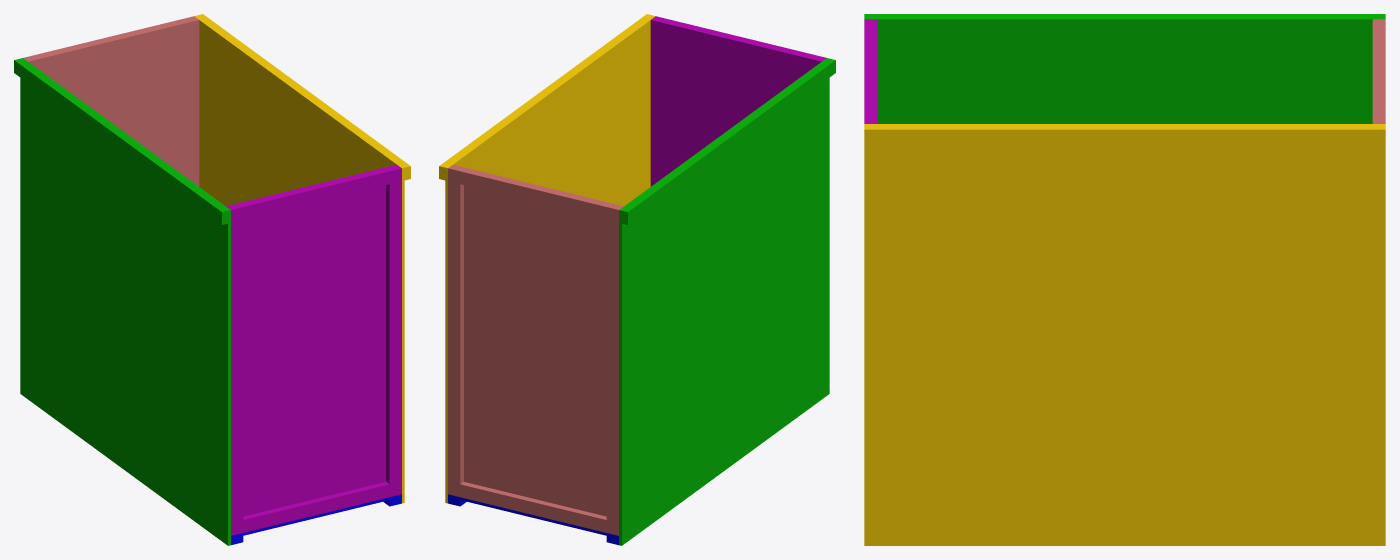
The model's file is result.glb.
The picture shows the model from 3 angles, left to right: view 1: azimuth 30°, elevation 25°; view 2: azimuth 150°, elevation 25°; view 3: azimuth 270°, elevation 25°; orthographic projection. The views are drawn at different scales.
Visible parts, largest first — view 1: a260a8ec-6c1c-4fc8-a419-ee8a93a46daf__Box_6, 8c8c1f2b-1c2c-4d17-8671-ed5d6c28e65e__Box_3, e6c6c6a1-25d2-46c9-9705-4d5112865260__undefined, 0d2dae7b-23cd-4797-b2a1-122af5df857a__undefined, 223b611f-dde1-403c-8724-027402810b2d__undefined, 03f264f4-825f-49a6-9b8f-b2991ffcead8__Box_4, 1cd82f96-8d40-4a3d-a4e0-77a893c3289e__Box_7, 5917dab4-536d-48ba-8e8d-8ffdf79bc99d__undefined, 3a707abf-7436-4e49-a3dd-9f164ed3c6d1__Box_5, 132ed3c3-c438-4e21-9d2a-dba6ddb470d2__undefined, b5c59550-f98e-4129-9491-5e264ab6bd3d__undefined, ba3e2ed6-879d-4cb2-9c29-e99765f75219__Box; view 2: a260a8ec-6c1c-4fc8-a419-ee8a93a46daf__Box_6, 0d2dae7b-23cd-4797-b2a1-122af5df857a__undefined, e6c6c6a1-25d2-46c9-9705-4d5112865260__undefined, 8c8c1f2b-1c2c-4d17-8671-ed5d6c28e65e__Box_3, 43a2604a-02db-4e8a-b599-6b7bf80a74d7__undefined, 1194e7f5-2d8d-41c9-993d-09dfae8adb20__undefined, 1cd82f96-8d40-4a3d-a4e0-77a893c3289e__Box_7, b5c59550-f98e-4129-9491-5e264ab6bd3d__undefined, fda42516-2a48-4cc5-a5be-94e756a32238__undefined, 132ed3c3-c438-4e21-9d2a-dba6ddb470d2__undefined, 5917dab4-536d-48ba-8e8d-8ffdf79bc99d__undefined, ba3e2ed6-879d-4cb2-9c29-e99765f75219__Box; view 3: e6c6c6a1-25d2-46c9-9705-4d5112865260__undefined, a260a8ec-6c1c-4fc8-a419-ee8a93a46daf__Box_6, 132ed3c3-c438-4e21-9d2a-dba6ddb470d2__undefined, 1cd82f96-8d40-4a3d-a4e0-77a893c3289e__Box_7, 5917dab4-536d-48ba-8e8d-8ffdf79bc99d__undefined, b5c59550-f98e-4129-9491-5e264ab6bd3d__undefined.
Boxes of the visible parts, <box> form: a260a8ec-6c1c-4fc8-a419-ee8a93a46daf__Box_6: <box>20,58,230,545</box>; 8c8c1f2b-1c2c-4d17-8671-ed5d6c28e65e__Box_3: <box>226,164,397,516</box>; e6c6c6a1-25d2-46c9-9705-4d5112865260__undefined: <box>194,15,404,503</box>; 0d2dae7b-23cd-4797-b2a1-122af5df857a__undefined: <box>27,19,199,186</box>; 223b611f-dde1-403c-8724-027402810b2d__undefined: <box>386,165,401,496</box>; 03f264f4-825f-49a6-9b8f-b2991ffcead8__Box_4: <box>227,204,243,535</box>; 1cd82f96-8d40-4a3d-a4e0-77a893c3289e__Box_7: <box>14,58,227,224</box>; 5917dab4-536d-48ba-8e8d-8ffdf79bc99d__undefined: <box>240,169,389,219</box>; 3a707abf-7436-4e49-a3dd-9f164ed3c6d1__Box_5: <box>243,482,389,532</box>; 132ed3c3-c438-4e21-9d2a-dba6ddb470d2__undefined: <box>197,14,410,180</box>; b5c59550-f98e-4129-9491-5e264ab6bd3d__undefined: <box>36,19,184,57</box>; ba3e2ed6-879d-4cb2-9c29-e99765f75219__Box: <box>231,494,401,538</box>; a260a8ec-6c1c-4fc8-a419-ee8a93a46daf__Box_6: <box>619,58,829,545</box>; 0d2dae7b-23cd-4797-b2a1-122af5df857a__undefined: <box>452,164,623,516</box>; e6c6c6a1-25d2-46c9-9705-4d5112865260__undefined: <box>445,15,655,503</box>; 8c8c1f2b-1c2c-4d17-8671-ed5d6c28e65e__Box_3: <box>650,19,822,186</box>; 43a2604a-02db-4e8a-b599-6b7bf80a74d7__undefined: <box>448,165,463,496</box>; 1194e7f5-2d8d-41c9-993d-09dfae8adb20__undefined: <box>606,204,622,535</box>; 1cd82f96-8d40-4a3d-a4e0-77a893c3289e__Box_7: <box>622,58,835,224</box>; b5c59550-f98e-4129-9491-5e264ab6bd3d__undefined: <box>460,169,609,219</box>; fda42516-2a48-4cc5-a5be-94e756a32238__undefined: <box>460,482,606,532</box>; 132ed3c3-c438-4e21-9d2a-dba6ddb470d2__undefined: <box>439,14,652,180</box>; 5917dab4-536d-48ba-8e8d-8ffdf79bc99d__undefined: <box>665,19,813,57</box>; ba3e2ed6-879d-4cb2-9c29-e99765f75219__Box: <box>448,494,618,538</box>; e6c6c6a1-25d2-46c9-9705-4d5112865260__undefined: <box>864,124,1385,545</box>; a260a8ec-6c1c-4fc8-a419-ee8a93a46daf__Box_6: <box>864,17,1385,123</box>; 132ed3c3-c438-4e21-9d2a-dba6ddb470d2__undefined: <box>864,125,1385,145</box>; 1cd82f96-8d40-4a3d-a4e0-77a893c3289e__Box_7: <box>864,14,1385,17</box>; 5917dab4-536d-48ba-8e8d-8ffdf79bc99d__undefined: <box>864,27,873,116</box>; b5c59550-f98e-4129-9491-5e264ab6bd3d__undefined: <box>1376,27,1385,116</box>.
Bounding box in the file's own units: 552 × 936 × 1052.
